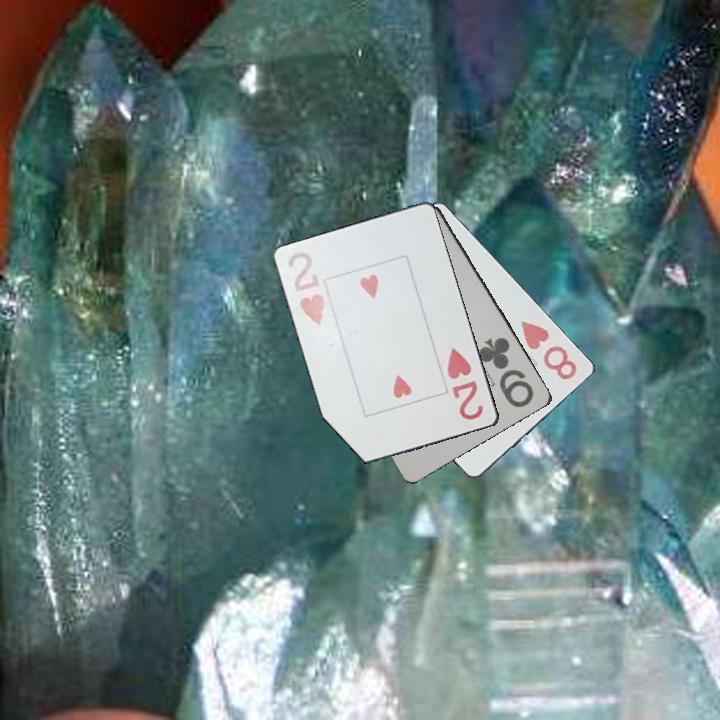2h: (285, 246, 332, 329), (444, 344, 487, 423)
8h: (516, 317, 580, 383)
9c: (476, 334, 537, 411)
